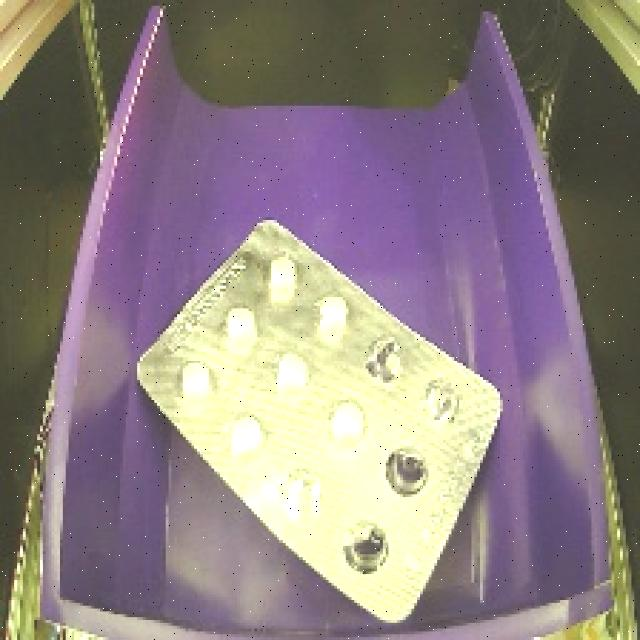med_plate: (119, 205, 523, 630)
